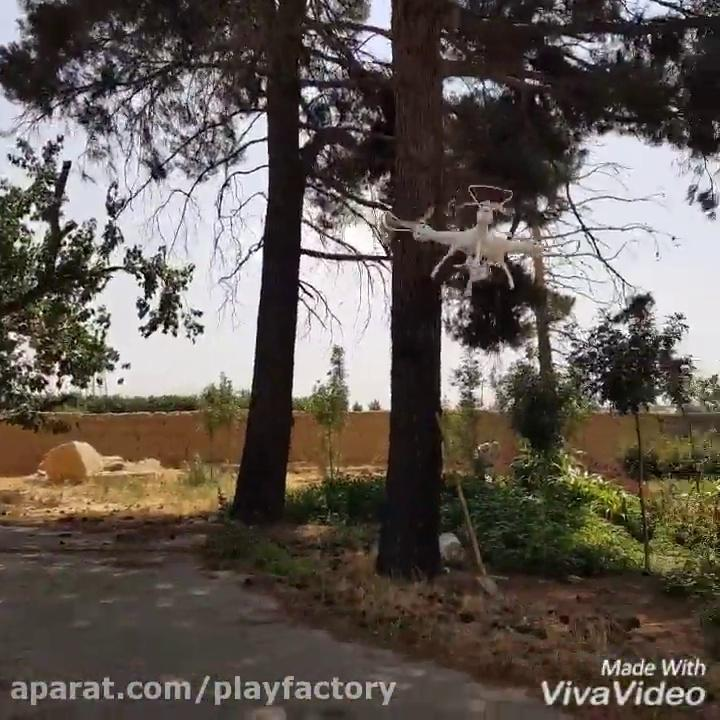drone: (379, 181, 568, 297)
